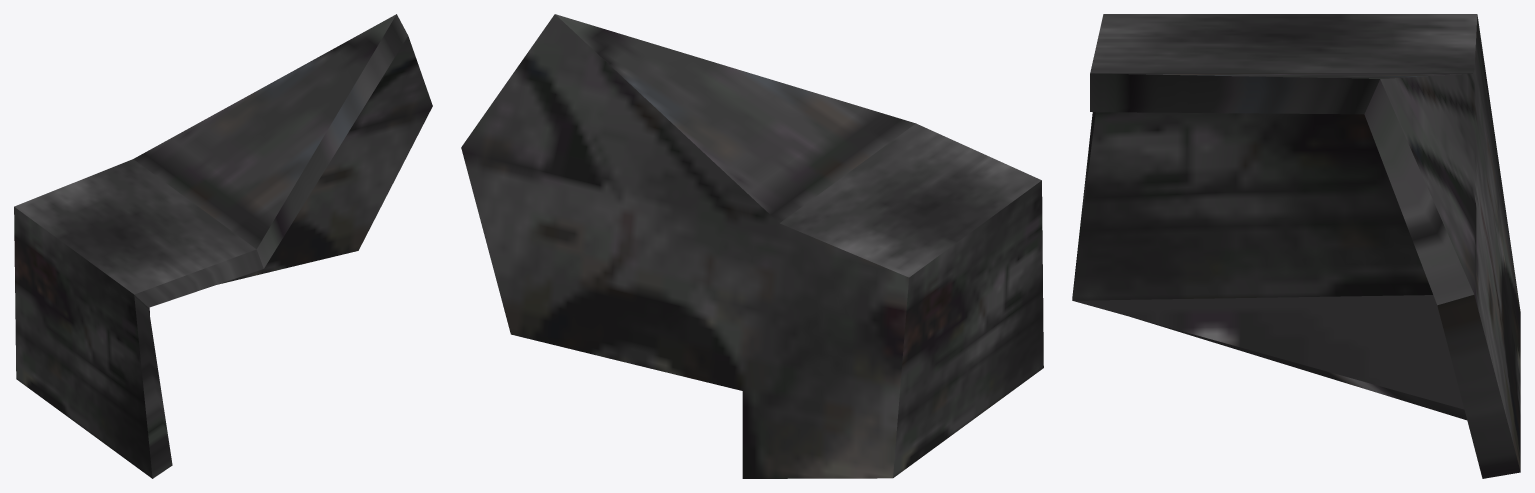
Rendered from Shared - Ground Vehicles - CV Generic x 07 - CVGeneric_x07.glb.
The picture shows the model from 3 angles, left to right: view 1: azimuth 30°, elevation 25°; view 2: azimuth 150°, elevation 25°; view 3: azimuth 270°, elevation 25°; orthographic projection. The views are drawn at different scales.
Parts seen in each view (by area): view 1: CVGENERIC_X07; view 2: CVGENERIC_X07; view 3: CVGENERIC_X07.
Part boxes in pixels (left/top/right/bottom): CVGENERIC_X07: left=14, top=14, right=432, bottom=478; CVGENERIC_X07: left=461, top=14, right=1043, bottom=478; CVGENERIC_X07: left=1072, top=14, right=1520, bottom=478.
Size of the model in its own units: 7.07 by 5.57 by 4.34.
1 material, 1 textured.
